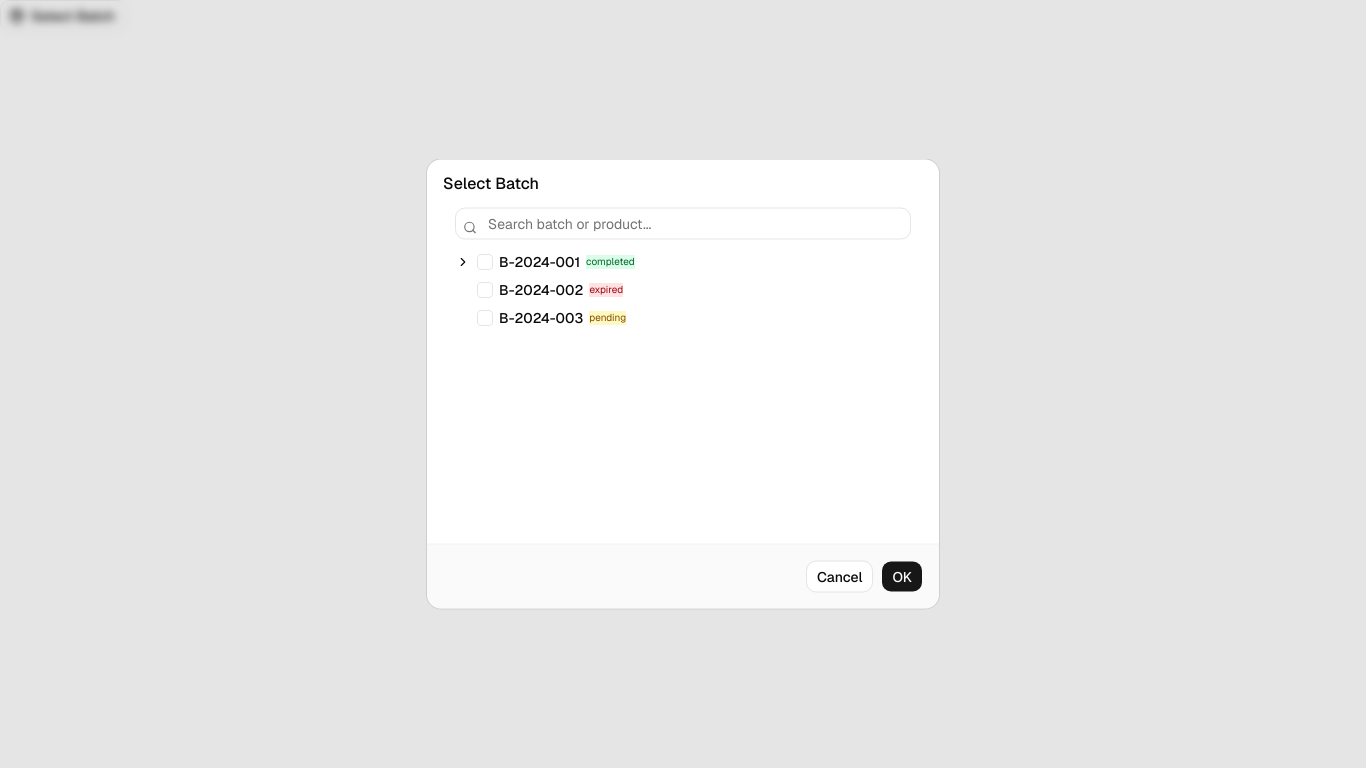
Test: BatchSelector › search filters by batch number
The image size is (1366, 768).
Type "002" into the field with placeholder "Search batch or product...".
click(683, 224); type("002")  # box [455,208,911,240]
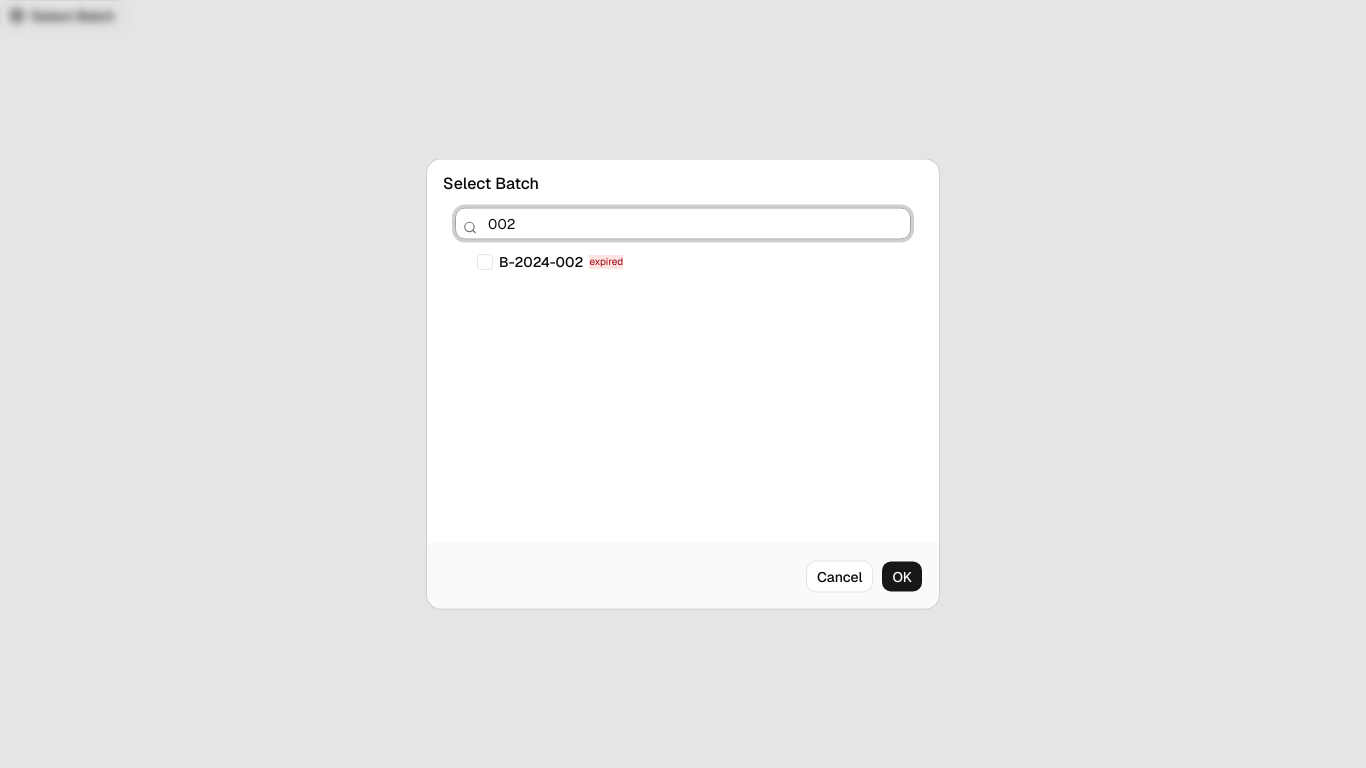
Check: the text "B-2024-002" is shown, box [499,252,583,272]
Check: the text "B-2024-003" is gone
